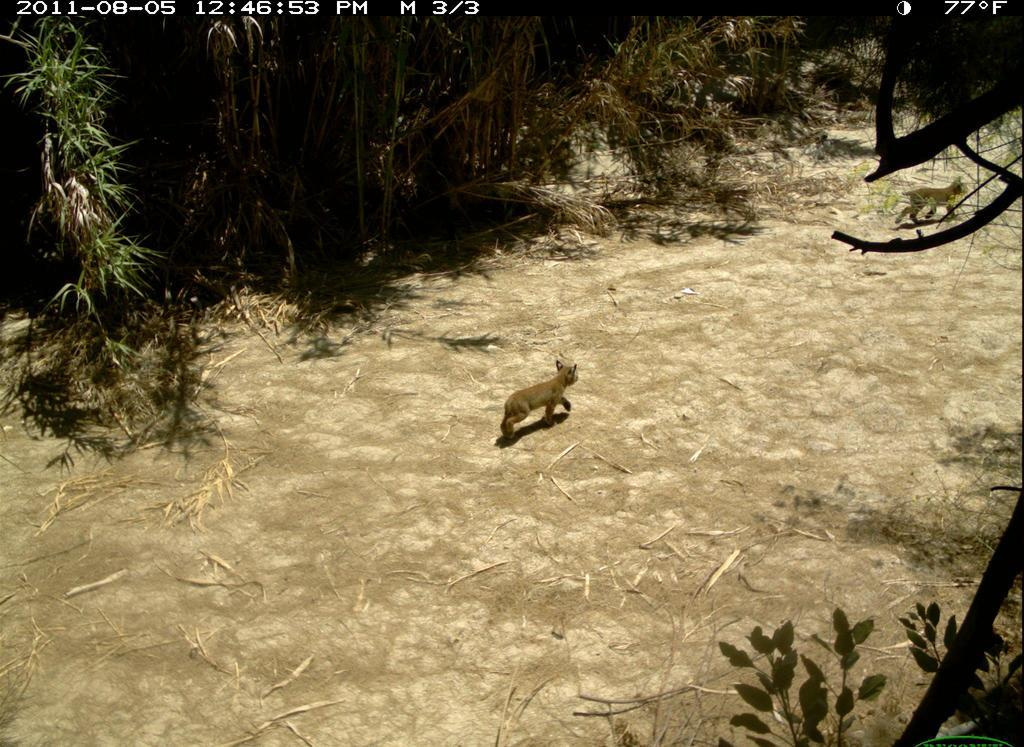bobcat: (495, 359, 582, 450), (890, 175, 972, 231)
